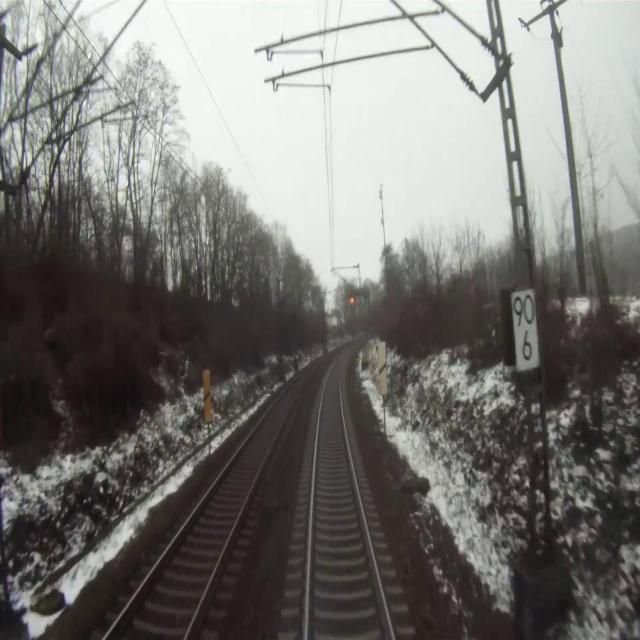rail-track: (107, 364, 315, 639), (309, 363, 390, 639)
